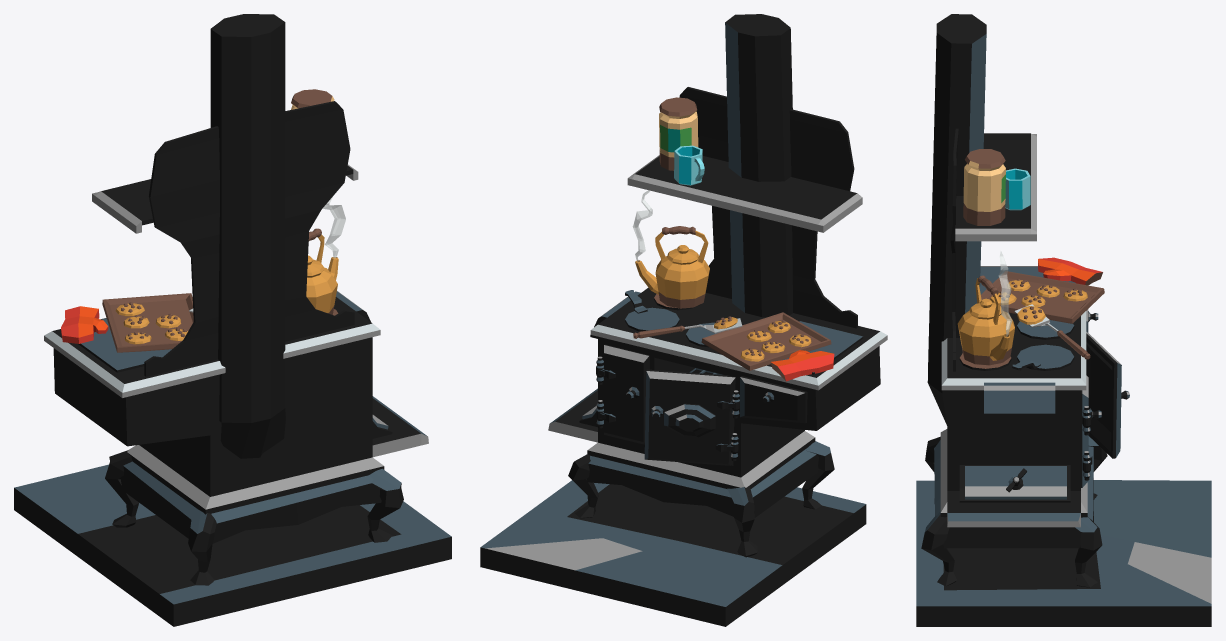
File: Kitchen Woodstove.glb
3 views of the same model, side by side, from view 1: azimuth 30°, elevation 25°; view 2: azimuth 150°, elevation 25°; view 3: azimuth 270°, elevation 25° (orthographic). The views are drawn at different scales.
Parts seen in each view (by area): view 1: group376465851, group1739955993; view 2: group376465851, group1739955993; view 3: group376465851, group1739955993.
Part boxes in pixels (bbox=[...]): group376465851: bbox=[44, 14, 428, 585]; group1739955993: bbox=[14, 464, 451, 626]; group376465851: bbox=[548, 14, 887, 557]; group1739955993: bbox=[480, 480, 866, 626]; group376465851: bbox=[921, 14, 1129, 587]; group1739955993: bbox=[916, 480, 1211, 626].
Size of the model in its own units: 3.83 by 6.49 by 3.35.
